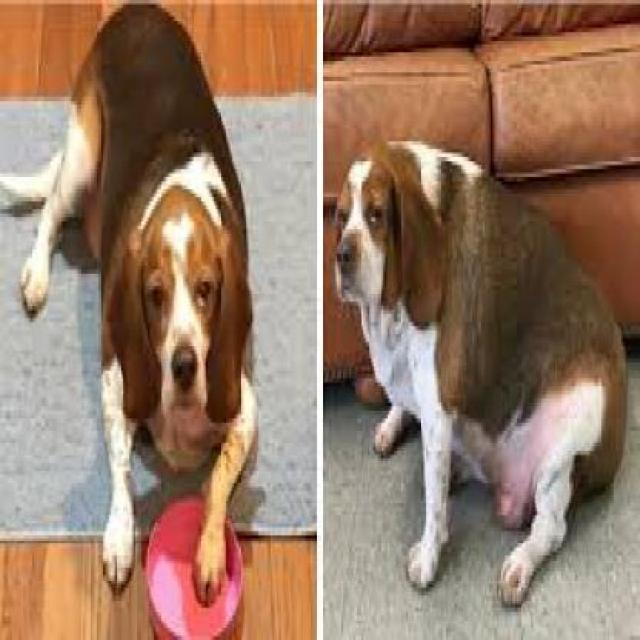Dog: (0, 3, 262, 609)
